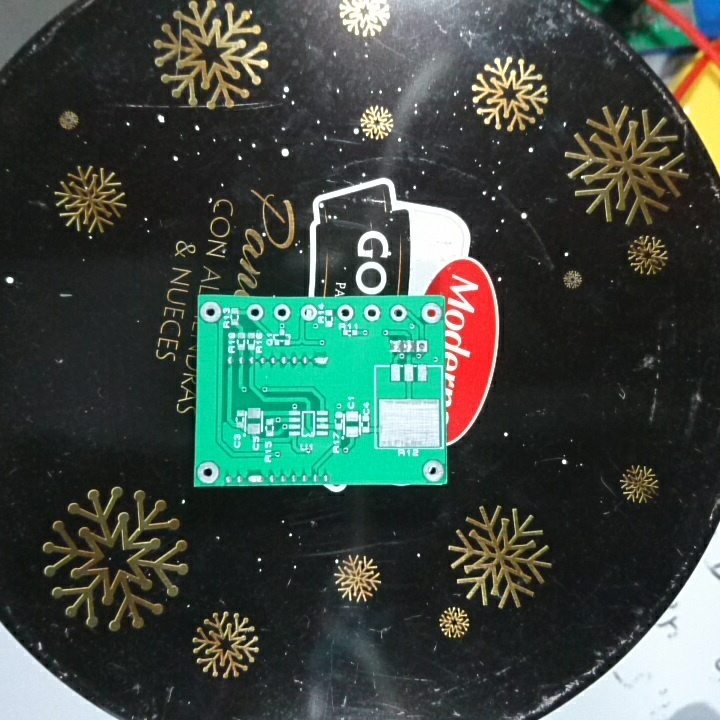F: (199, 299, 224, 327), (420, 458, 445, 486), (195, 460, 221, 486), (419, 302, 444, 327), (361, 302, 384, 326), (244, 301, 266, 325), (387, 302, 410, 324), (335, 302, 356, 324), (272, 303, 293, 323), (299, 303, 319, 323), (414, 337, 430, 355)
P: (245, 470, 267, 487), (310, 353, 331, 369)
